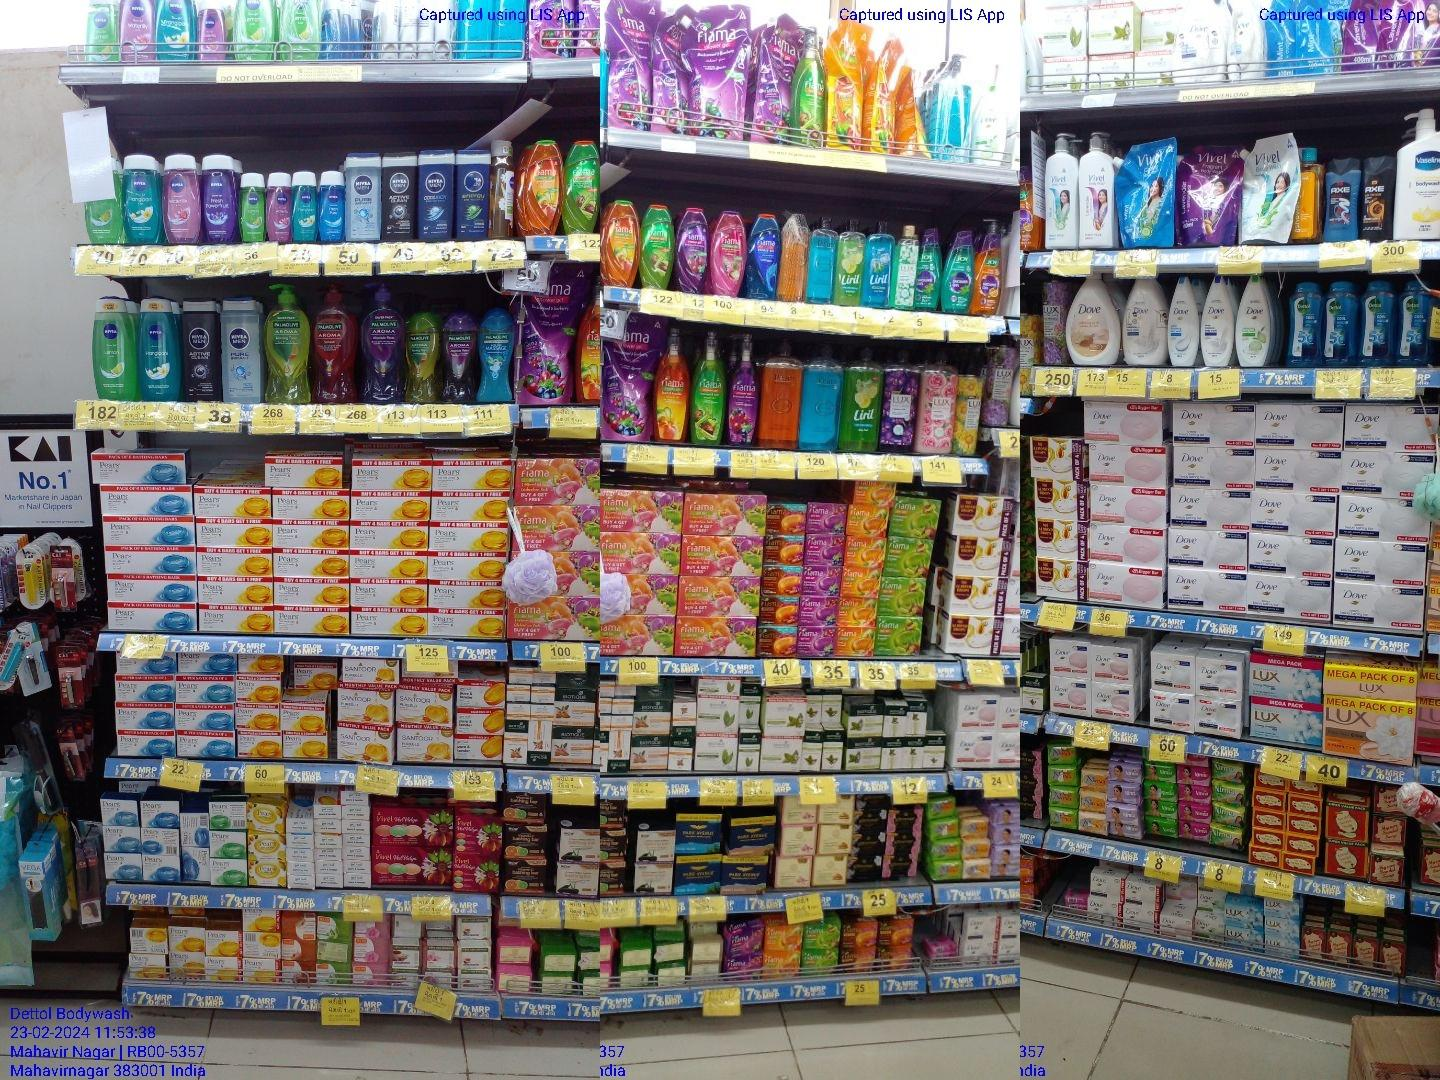Dettol_Bodywash_Cool: (1322, 278, 1361, 366), (1287, 275, 1322, 368), (1398, 277, 1430, 364), (1361, 278, 1391, 365)
Dove_Deep_Moisture_Body_Wash_250ML: (1201, 272, 1231, 368)
Dove_Gentle_Exfoliating_Body_Wash_250ML: (1168, 278, 1194, 369)
Dove_Refreshing_Body_Wash_250ML: (1235, 271, 1271, 369)
Fiama_Shower_Gel_Lemongrass_and_Jojoba_250ML: (562, 138, 599, 234), (639, 204, 672, 288)
Fiama_Shower_Gel_Patchouli_and_Macadamia_250ML: (712, 212, 744, 295)
Fiama_Shower_Gel_Peach_and_Avocado_250ML: (601, 193, 637, 288), (525, 137, 559, 234)
Joy_Shower_Gel_Mint_and_Eucalyptus_250ML: (941, 228, 973, 314), (917, 227, 939, 311)
Liril_Cooling_Mint_Body_Wash_250ML: (863, 217, 890, 307)
Liril_Lime_and_Tea_Tree_Oil_Body_Wash_250ML: (836, 216, 862, 306)
Lux_Body_Wash_Skin_Detox_Freesia_Scent_and_Alove_Vera_245ML: (406, 310, 438, 405), (892, 225, 916, 313)
Nivea_Shower_Gel_Frangipani_and_Oil_250ML: (141, 297, 179, 404), (124, 150, 161, 246)
Nivea_Shower_Gel_Fresh_Powerfruit_250ML: (204, 154, 236, 246)
Nivea_Shower_Gel_Lemon_and_Oil_250ML: (94, 296, 138, 404)
Nivea_Shower_Gel_Waterlily_and_Oil_250ML: (161, 151, 200, 245)
Palmolive_Aroma_Moments_Feel_The_Massage_Shower_Gel_250ML: (478, 310, 515, 404)
Palmolive_Aroma_Relax_250ML: (442, 310, 474, 404)
Pears_Pure_Glycerin_and_Mint_Extracts_Body_Wash_250ML: (810, 216, 835, 304)
